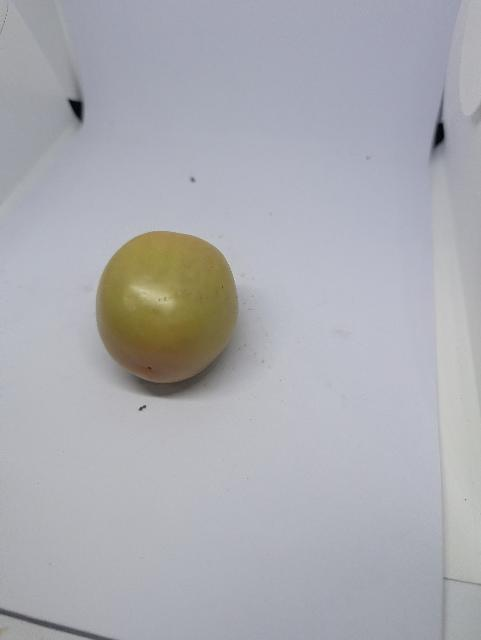breaker: (96, 231, 238, 383)
